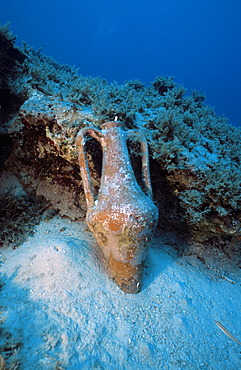amphora: (74, 119, 164, 296)
